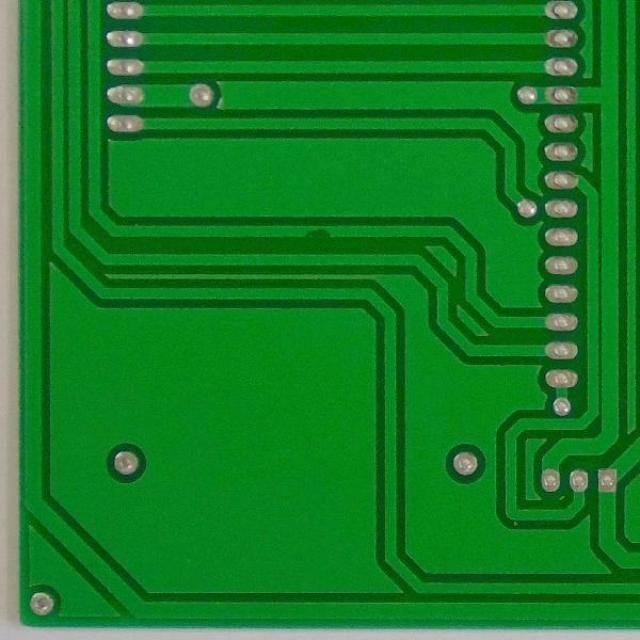MouseBite: (300, 221, 332, 240)
